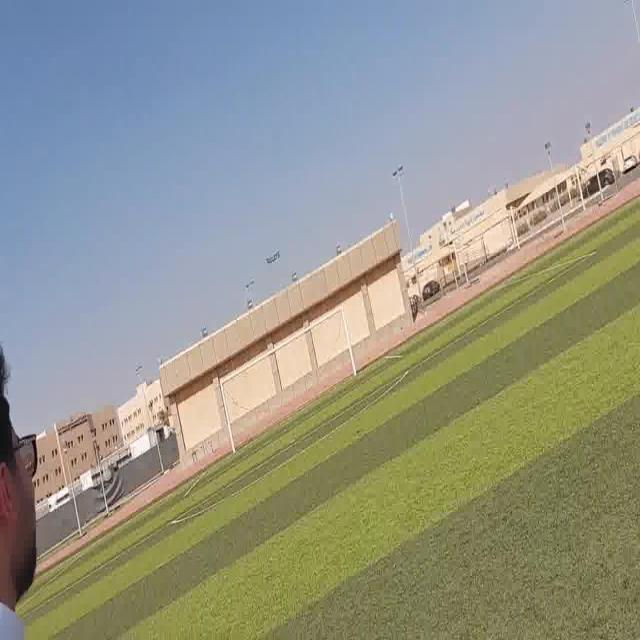drone: (260, 241, 284, 275)
